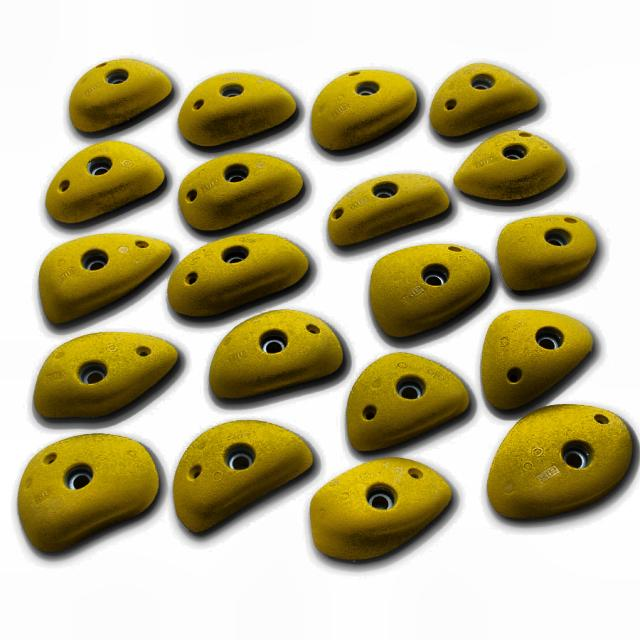Hold: (18, 434, 160, 560), (489, 399, 631, 519), (175, 423, 315, 539), (310, 454, 451, 564), (37, 330, 184, 426), (351, 352, 471, 458), (480, 307, 597, 411), (209, 311, 344, 401), (37, 232, 166, 326), (370, 243, 493, 334), (178, 235, 308, 320), (46, 144, 167, 229), (180, 151, 302, 230), (329, 167, 450, 245), (313, 71, 423, 151), (435, 60, 549, 130), (455, 130, 568, 200), (185, 74, 295, 145), (71, 54, 173, 127), (504, 210, 596, 290)
